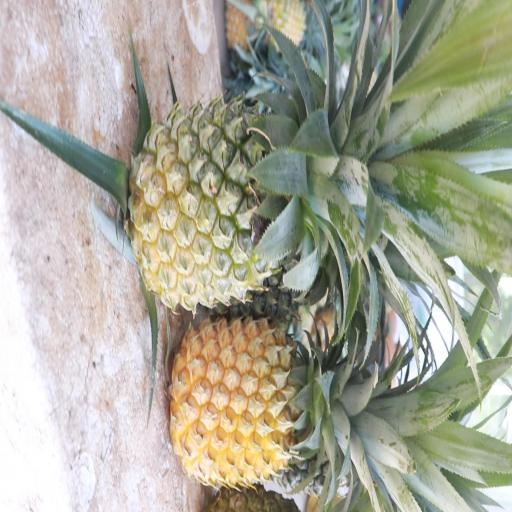------------------------------: (133, 111, 337, 299)
Pineapple - v8 v1: (173, 310, 376, 488)
